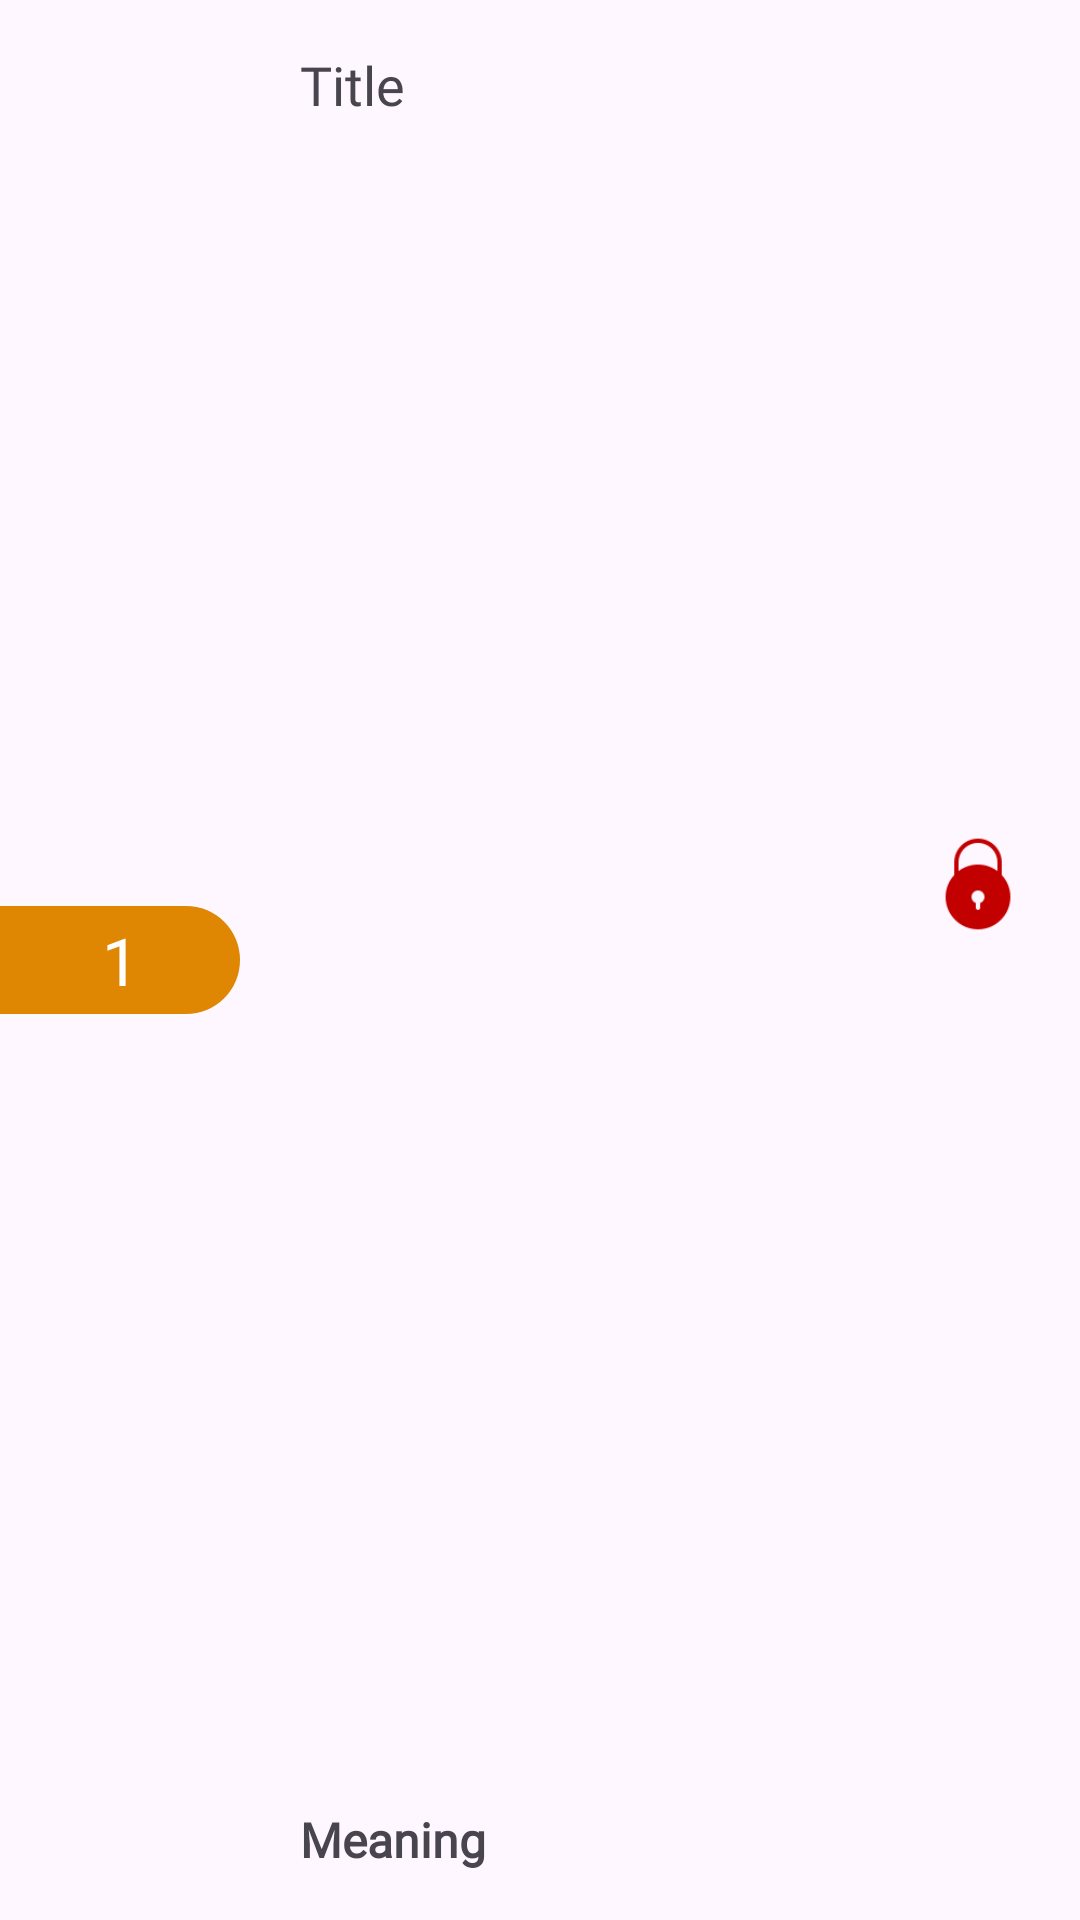

Icon bounding boxes for this 1080x1920 phone screenshot, format {"x1": x1, "y1": y1, "x2": x2, "y2": y2}:
lock: {"x1": 945, "y1": 838, "x2": 1011, "y2": 930}
